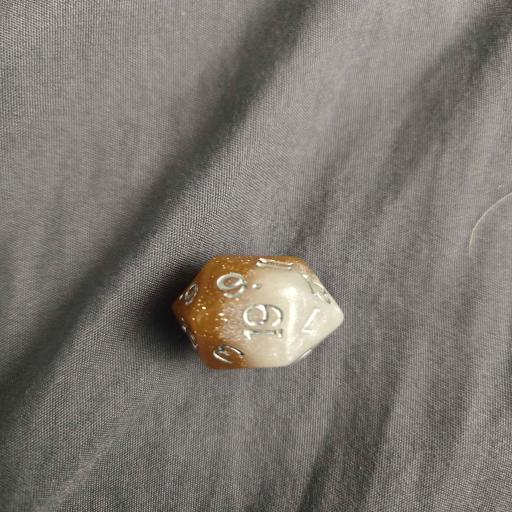twenty sided dice: (172, 255, 344, 370)
